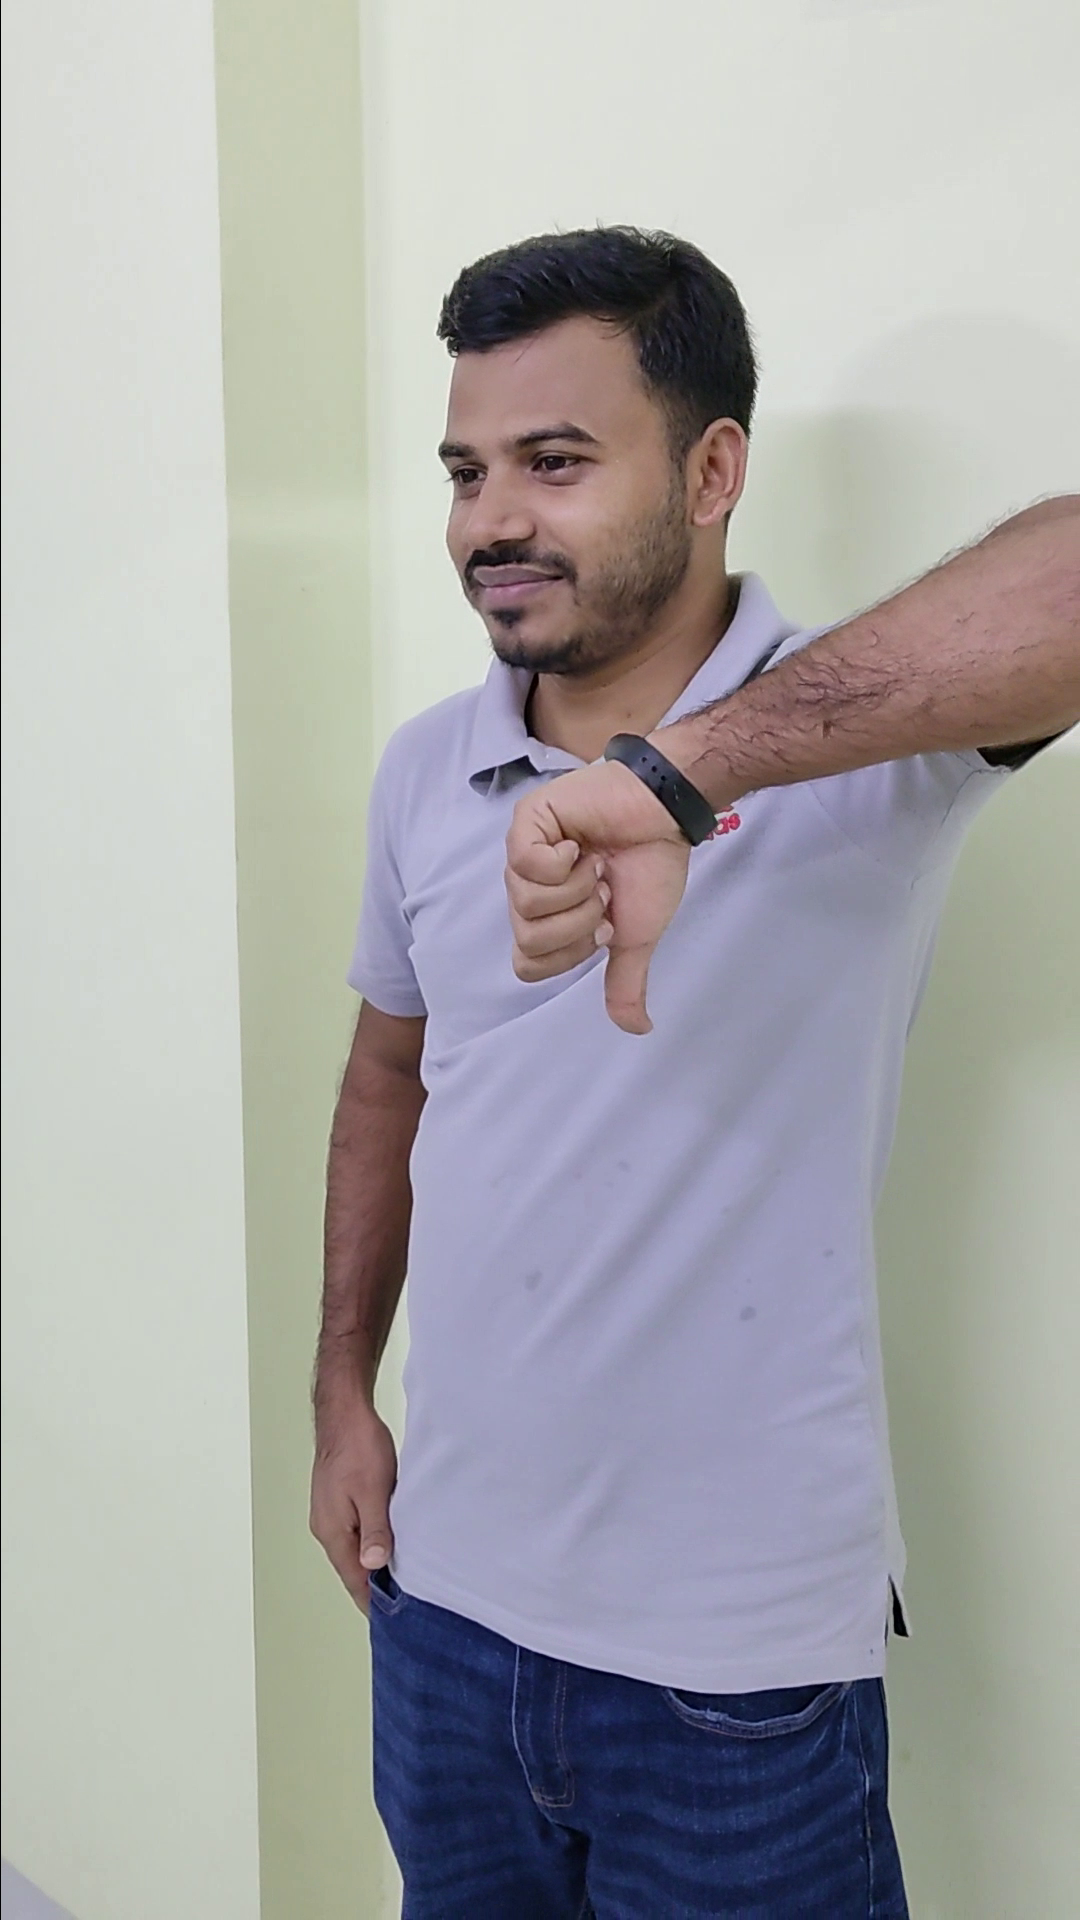Dislike: (481, 721, 711, 1047)
None: (273, 1349, 419, 1642)
